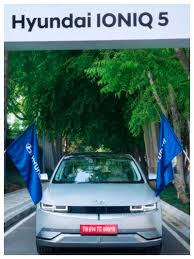Honda Ioniq: (34, 145, 166, 259)
